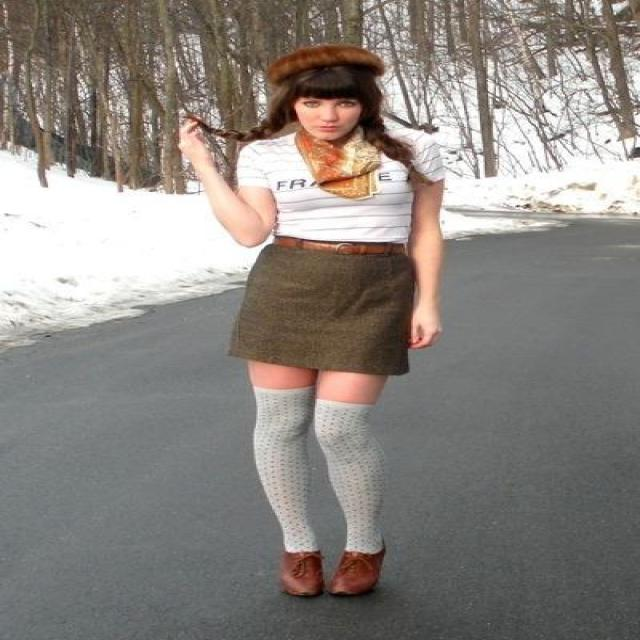hat: (268, 46, 382, 82)
shirt: (237, 132, 461, 242)
shoe: (277, 550, 384, 612)
skirt: (227, 248, 416, 378)
